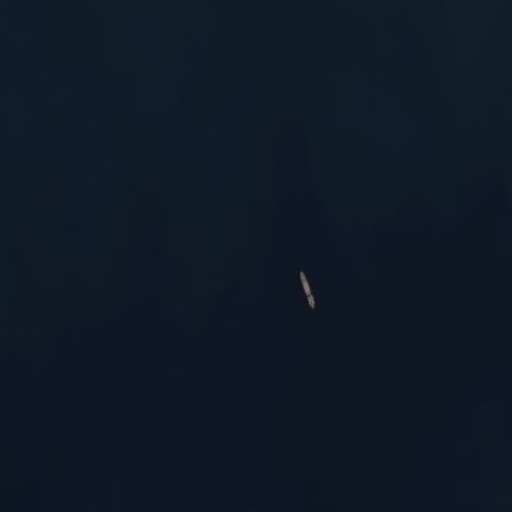ship: (296, 268, 320, 314)
